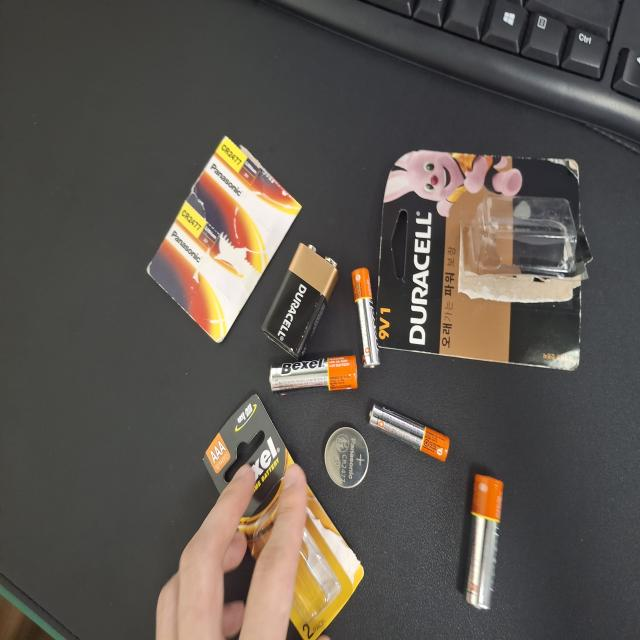9V: (210, 349, 298, 450)
AA: (184, 359, 213, 477), (22, 621, 124, 640)
AAA: (134, 492, 177, 600), (204, 469, 279, 507)
COIN: (114, 432, 160, 492)
